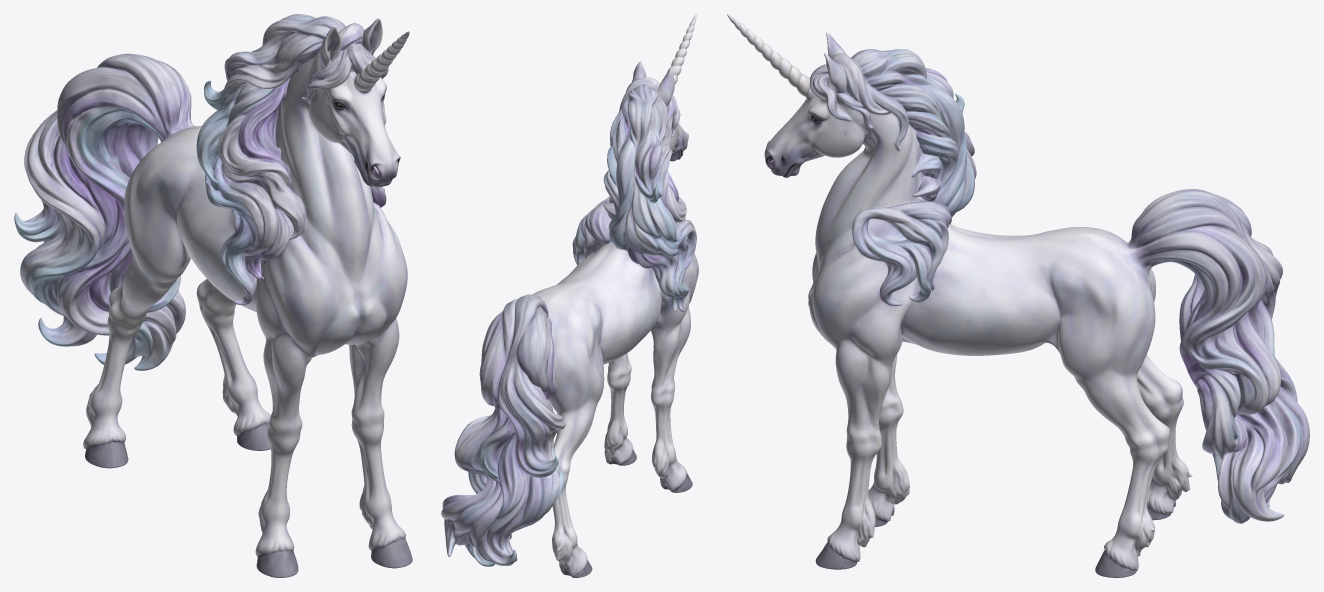
File: preview.glb
3 renders of one model, left to right at view 1: azimuth 30°, elevation 25°; view 2: azimuth 150°, elevation 25°; view 3: azimuth 270°, elevation 25°, orthographic. The views are drawn at different scales.
Parts seen in each view (by area): view 1: unicorn; view 2: unicorn; view 3: unicorn.
Part boxes in pixels (left/top/right/bottom): unicorn: left=14, top=14, right=412, bottom=577; unicorn: left=441, top=14, right=698, bottom=577; unicorn: left=727, top=14, right=1309, bottom=577.
Bounding box in the file's own units: 0.7814 × 2.4 × 2.39.
Materials: 1 (1 with a texture image).
